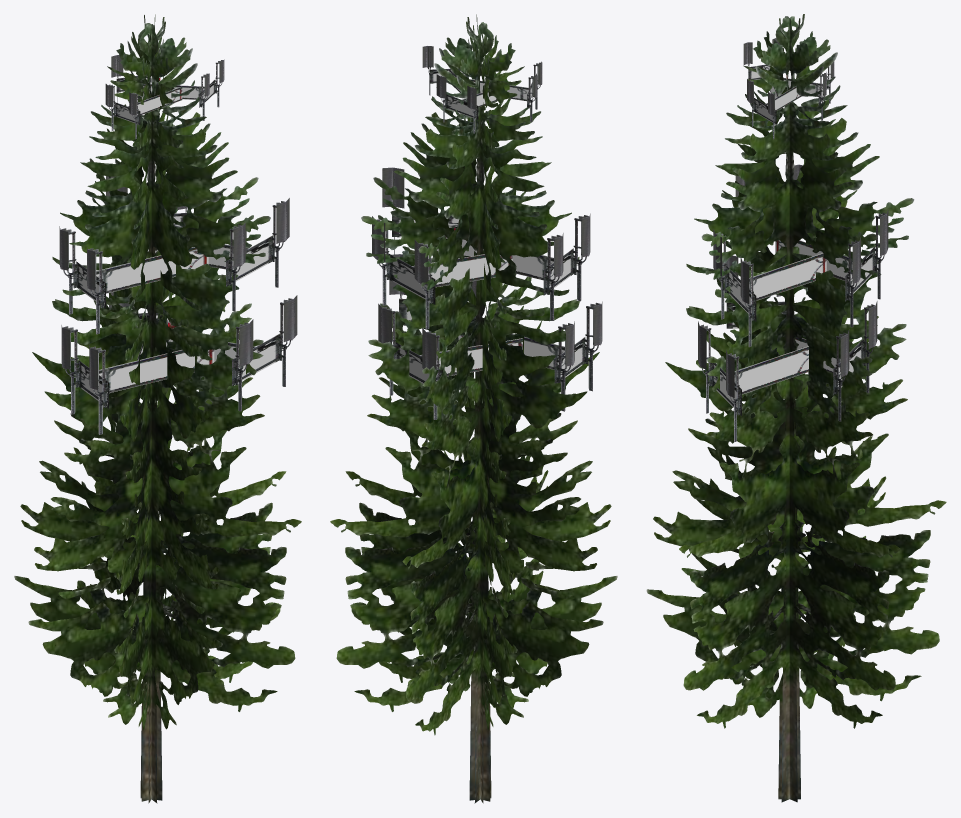
The model's file is cell-phone-tower.dae.
3 views of the same model, side by side, from view 1: azimuth 30°, elevation 25°; view 2: azimuth 150°, elevation 25°; view 3: azimuth 270°, elevation 25° (orthographic).
Parts seen in each view (by area): view 1: group_6, group_9, group_7, group_8, group_2 (×2), group_3 (×4), group_4 (×2), Group_18 (×3), group_1; view 2: group_8, group_9, group_7, group_6, group_2 (×4), group_1 (×4), Group_18 (×3), group_3 (×2); view 3: group_7, group_8, group_6, group_5 (×2), group_2, group_4.
Boxes of the visible parts, <box> form: group_6: <box>14,21,301,800</box>; group_9: <box>28,17,286,801</box>; group_7: <box>73,15,222,803</box>; group_8: <box>114,14,190,803</box>; group_2 (×2): <box>96,247,214,393</box>; group_3 (×4): <box>233,198,297,366</box>; group_4 (×2): <box>226,235,280,386</box>; Group_18 (×3): <box>63,248,107,434</box>; group_1: <box>78,360,108,408</box>; group_8: <box>330,21,617,800</box>; group_9: <box>345,17,603,801</box>; group_7: <box>402,22,548,803</box>; group_6: <box>442,14,517,803</box>; group_2 (×4): <box>412,235,564,376</box>; group_1 (×4): <box>388,248,585,387</box>; Group_18 (×3): <box>545,215,600,391</box>; group_3 (×2): <box>382,167,436,369</box>; group_7: <box>646,14,946,799</box>; group_8: <box>689,16,900,802</box>; group_6: <box>679,16,886,802</box>; group_5 (×2): <box>734,253,826,394</box>; group_2: <box>775,240,852,280</box>; group_4: <box>726,266,756,321</box>.
Bounding box in the file's own units: 261 × 261 × 753.
